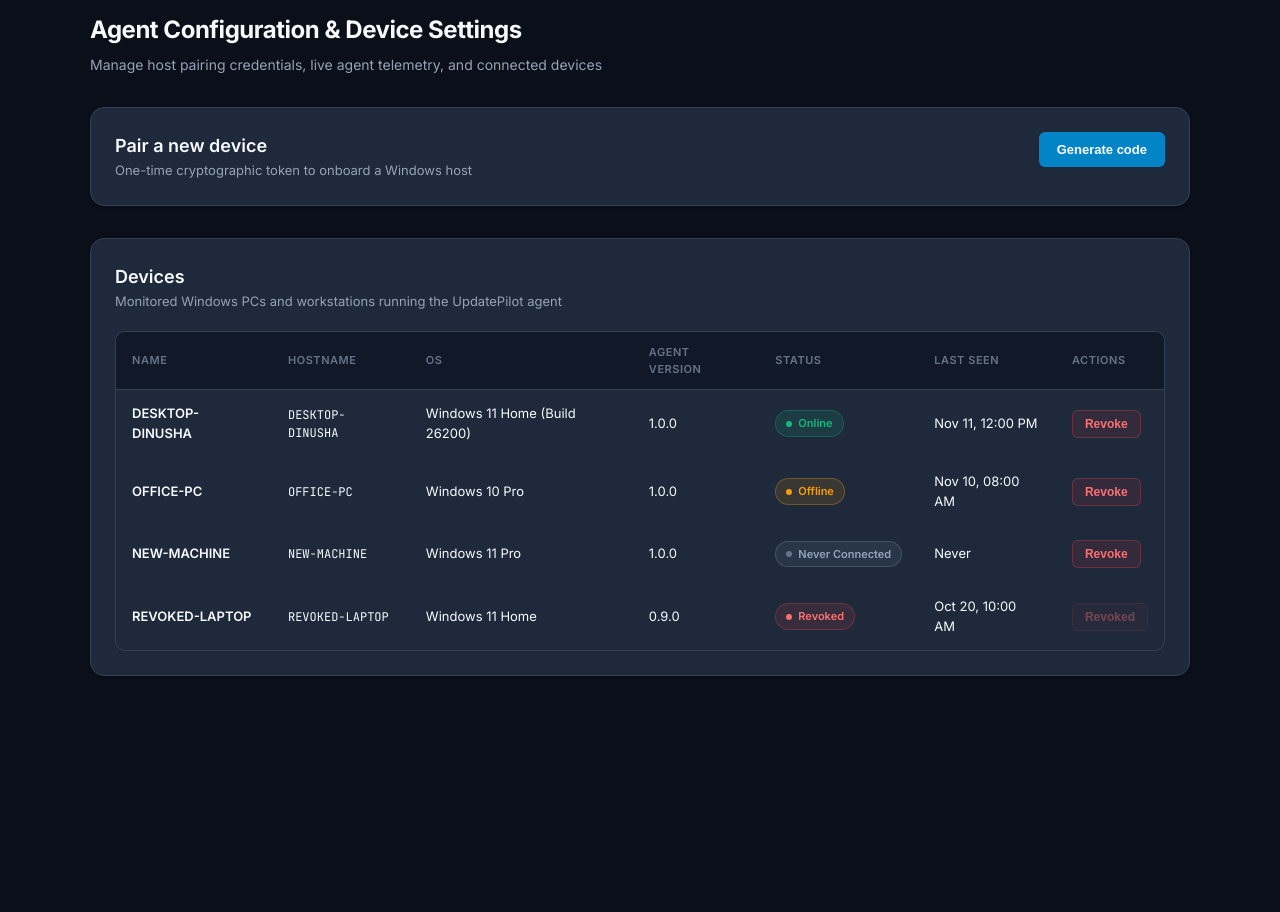
Settings & Agent Configuration Screen › copies pairing code to clipboard and shows "Copied!" feedback
Expected: the row with test id "device-row-dev-1" is shown, [116,390,1164,458]
Click the button with aria-label "generate pairing code".
click(1102, 150)  # box [1039,132,1165,167]
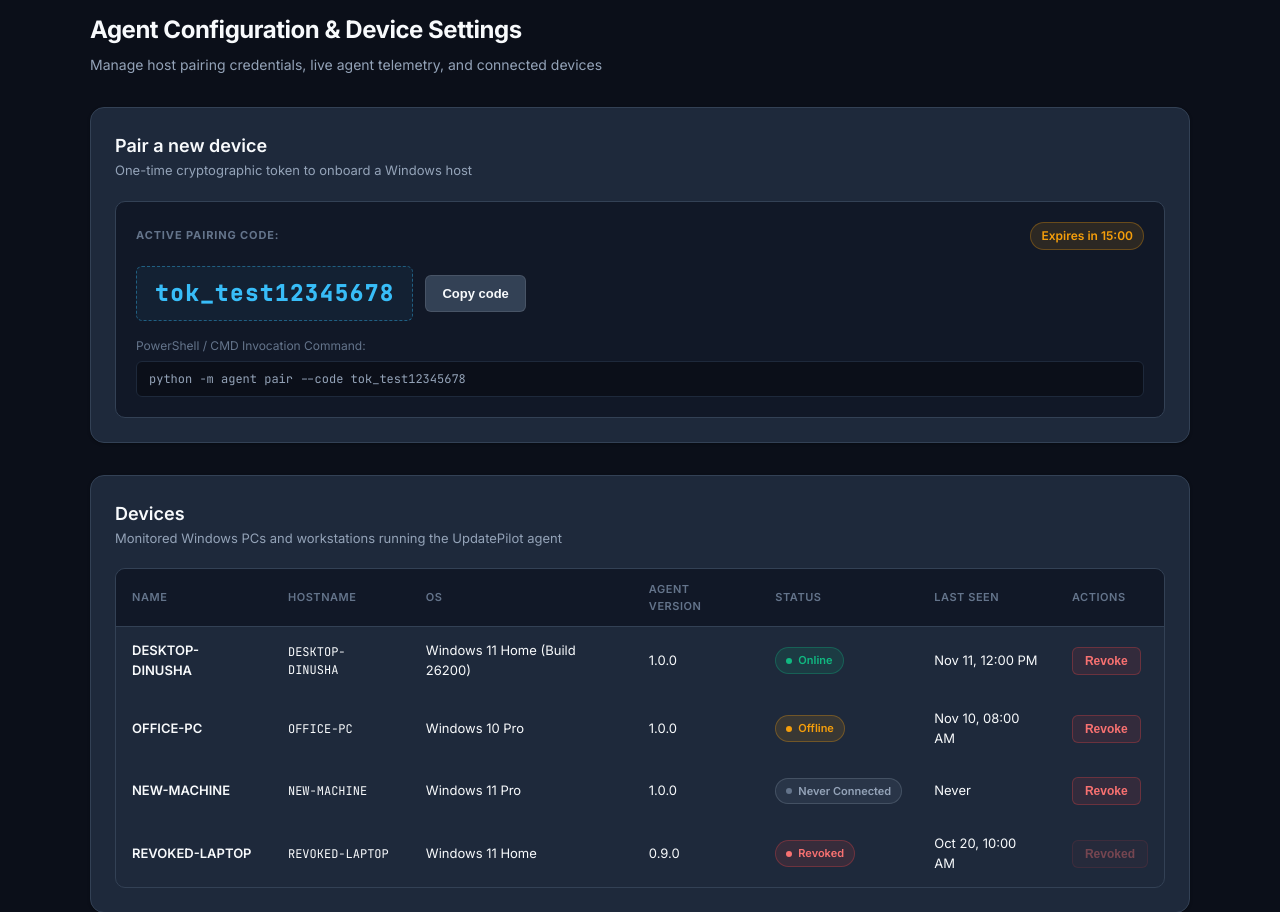
Expected: the button with aria-label "copy pairing code" reads "Copy code"
Click the button with aria-label "copy pairing code".
click(476, 293)  # box [425,274,526,312]
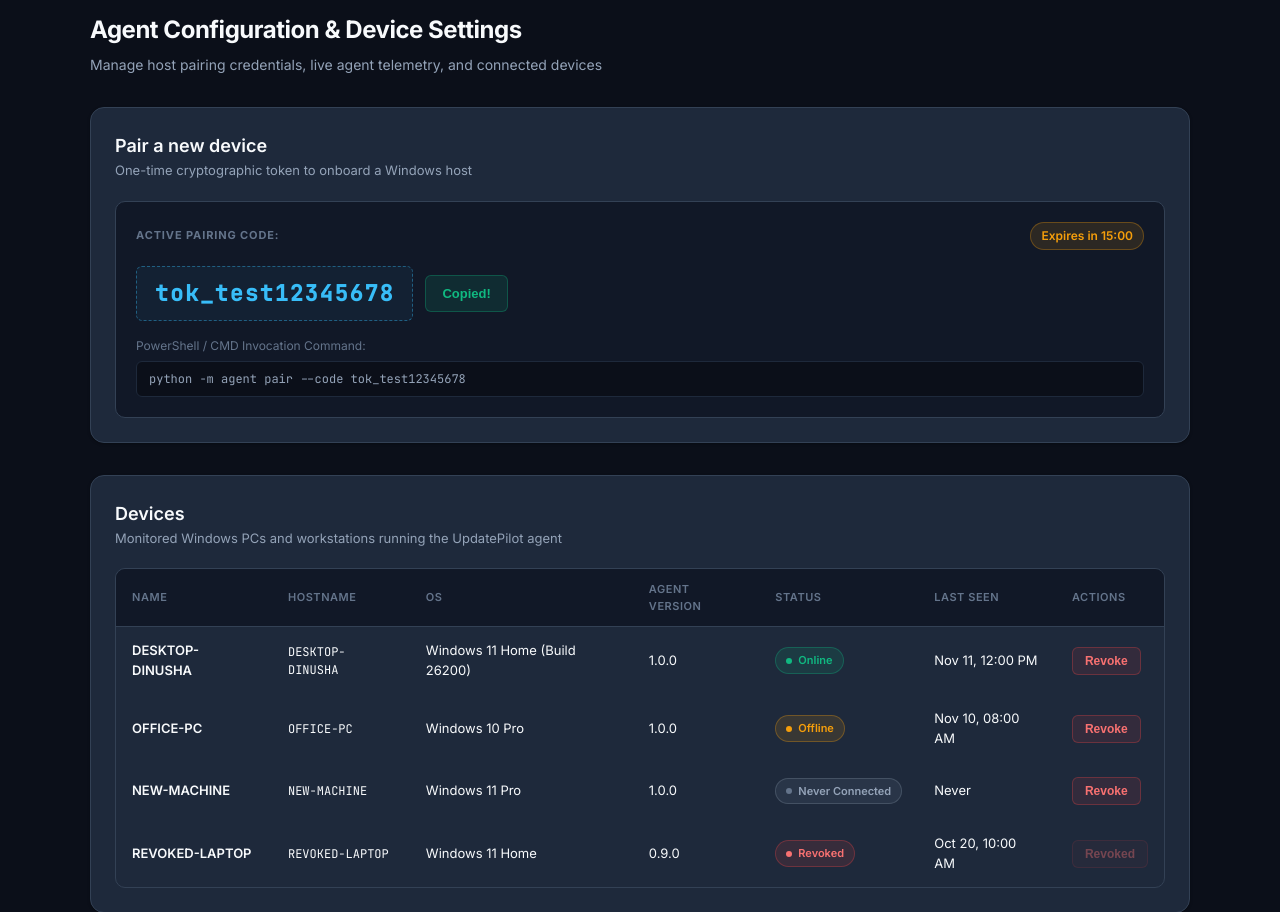
Expected: the button with aria-label "copy pairing code" reads "Copied!", [425,274,508,312]
